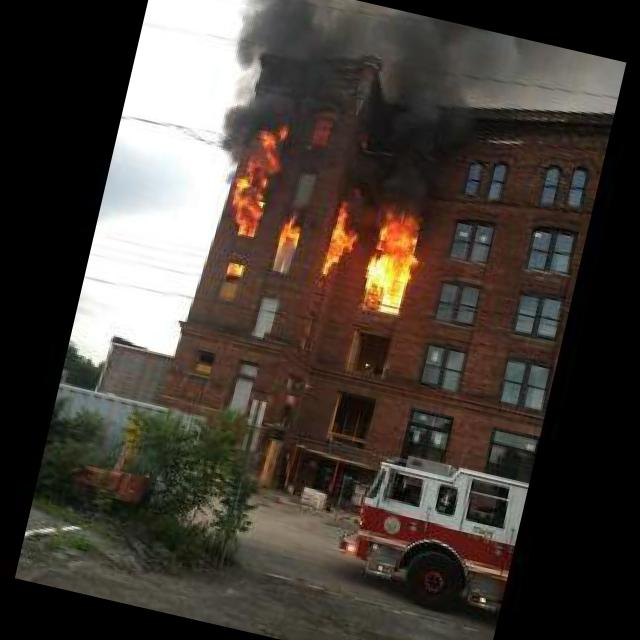Fire: (203, 122, 452, 322)
Smoke: (191, 0, 541, 210)
